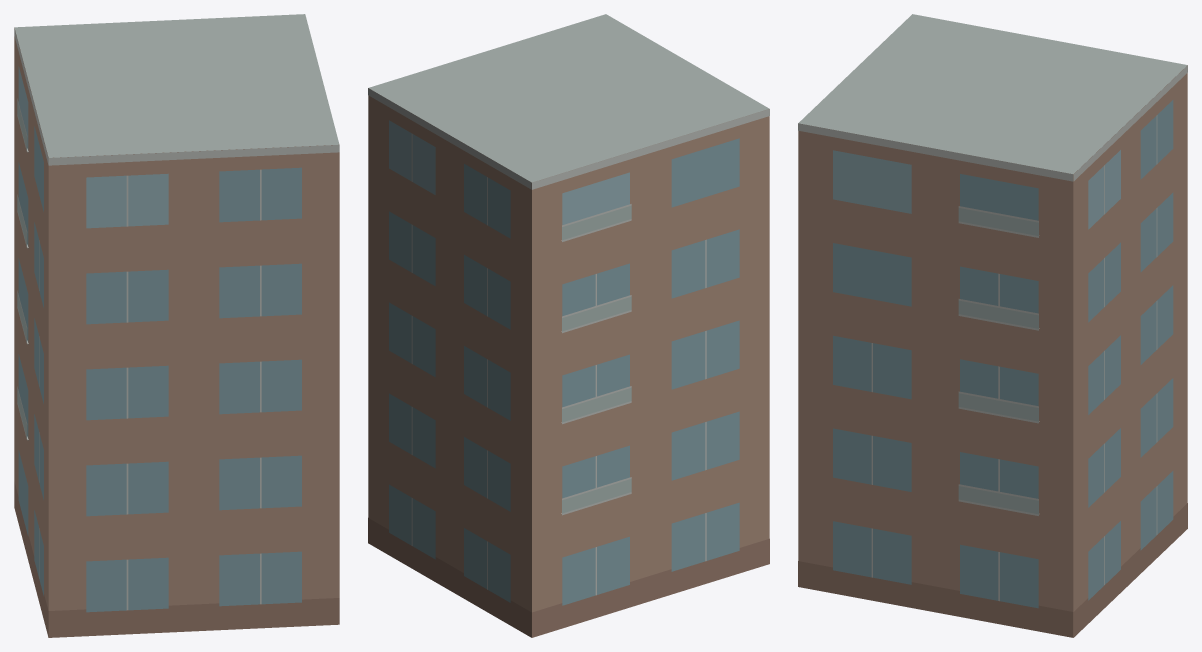
The model's file is survey-upis-32907248.glb.
3 renders of one model, left to right at view 1: azimuth 30°, elevation 25°; view 2: azimuth 150°, elevation 25°; view 3: azimuth 270°, elevation 25°, orthographic. The views are drawn at different scales.
Parts seen in each view (by area): view 1: survey-upis-32907248.tmp; view 2: survey-upis-32907248.tmp; view 3: survey-upis-32907248.tmp.
Boxes of the visible parts, bbox=[...] form: survey-upis-32907248.tmp: bbox=[14, 14, 339, 637]; survey-upis-32907248.tmp: bbox=[368, 14, 769, 637]; survey-upis-32907248.tmp: bbox=[798, 14, 1187, 637].
Size of the model in its own units: 11.31 by 15.25 by 11.62.
